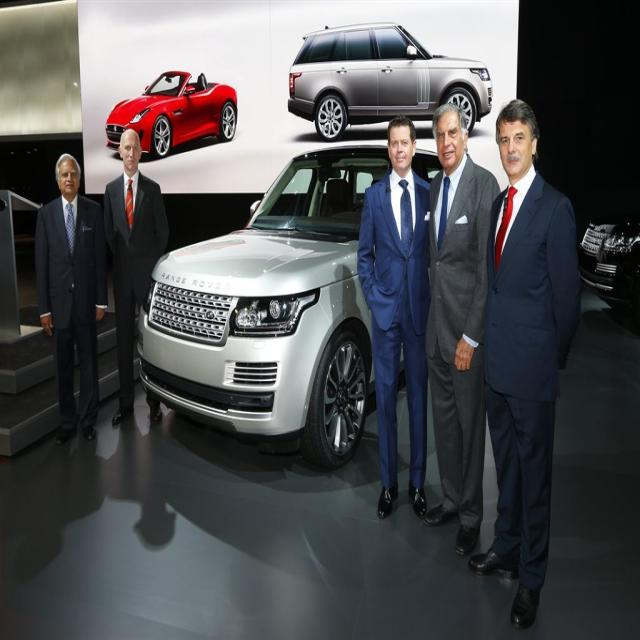car: (100, 55, 238, 155)
